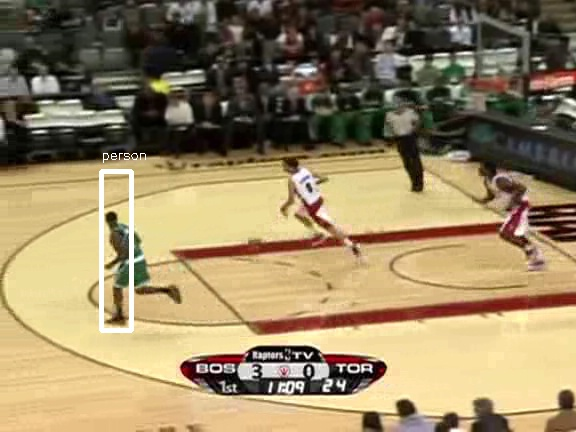person: (113, 214, 147, 295), (112, 214, 146, 295), (114, 214, 148, 295), (113, 213, 147, 294), (113, 215, 147, 296)
target_negative: (267, 49, 520, 426), (229, 175, 413, 424), (38, 171, 185, 418), (441, 120, 531, 426), (437, 156, 520, 408), (77, 263, 106, 308)
